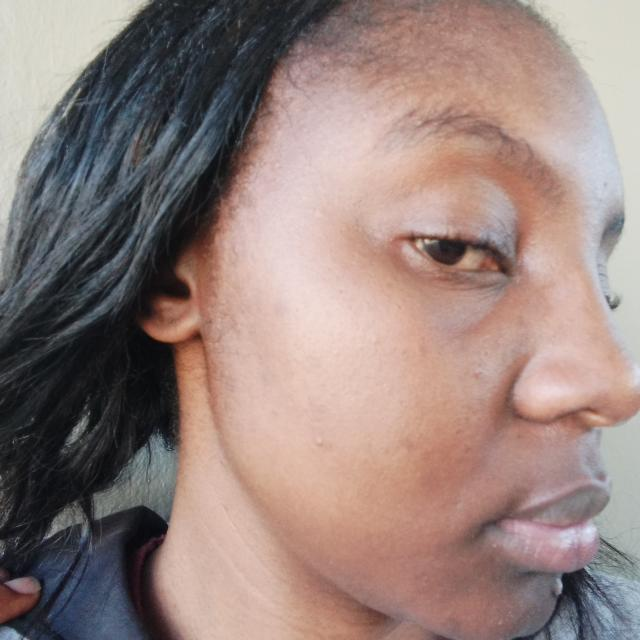Acne: (284, 425, 338, 467), (453, 355, 494, 398)
